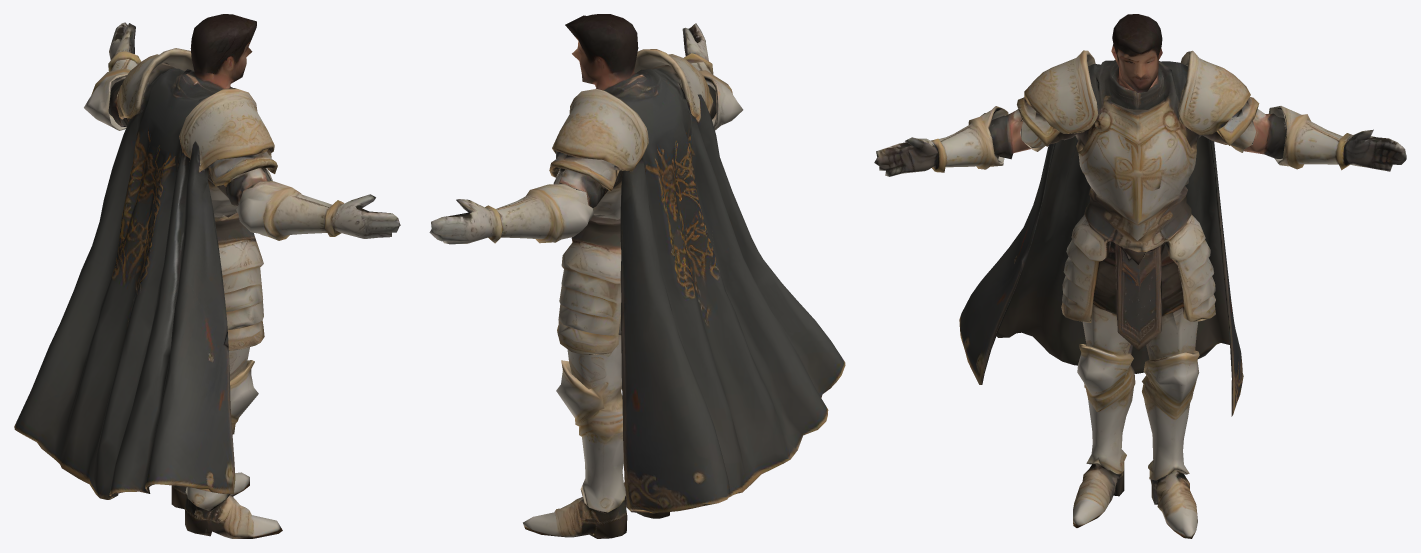
File: Char_Juramentada_M.glb
3 renders of one model, left to right at view 1: azimuth 30°, elevation 25°; view 2: azimuth 150°, elevation 25°; view 3: azimuth 270°, elevation 25°, orthographic.
Visible parts, largest first — view 1: tripo_node_ccd71398-7cfd-4c5d-b7fa-349554910946; view 2: tripo_node_ccd71398-7cfd-4c5d-b7fa-349554910946; view 3: tripo_node_ccd71398-7cfd-4c5d-b7fa-349554910946.
Part boxes in pixels (x1=…): tripo_node_ccd71398-7cfd-4c5d-b7fa-349554910946: x1=14, y1=14, x2=400, y2=538; tripo_node_ccd71398-7cfd-4c5d-b7fa-349554910946: x1=429, y1=14, x2=845, y2=538; tripo_node_ccd71398-7cfd-4c5d-b7fa-349554910946: x1=874, y1=14, x2=1406, y2=538.
Bounding box in the file's own units: 0.4599 × 0.9989 × 0.9718.
Materials: 1 (1 with a texture image).
